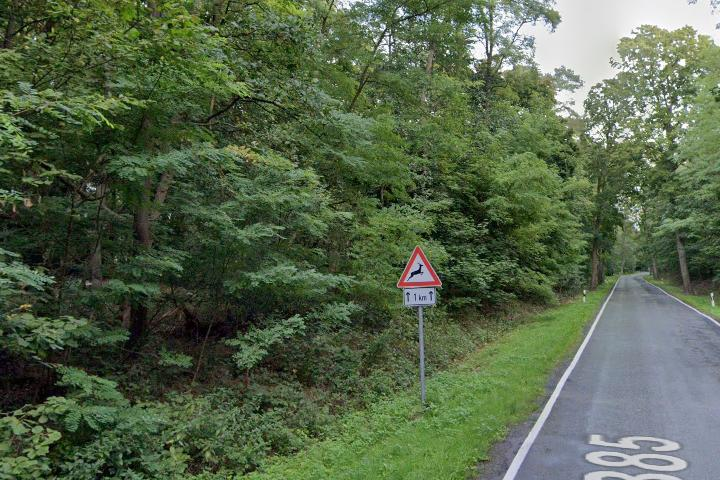traffic_sign: (396, 245, 442, 288)
